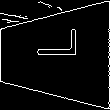L_W: (31, 40, 79, 70)
